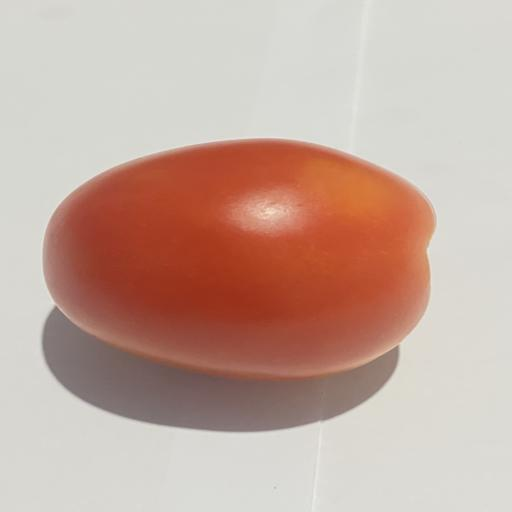ripe: (43, 139, 435, 380)
